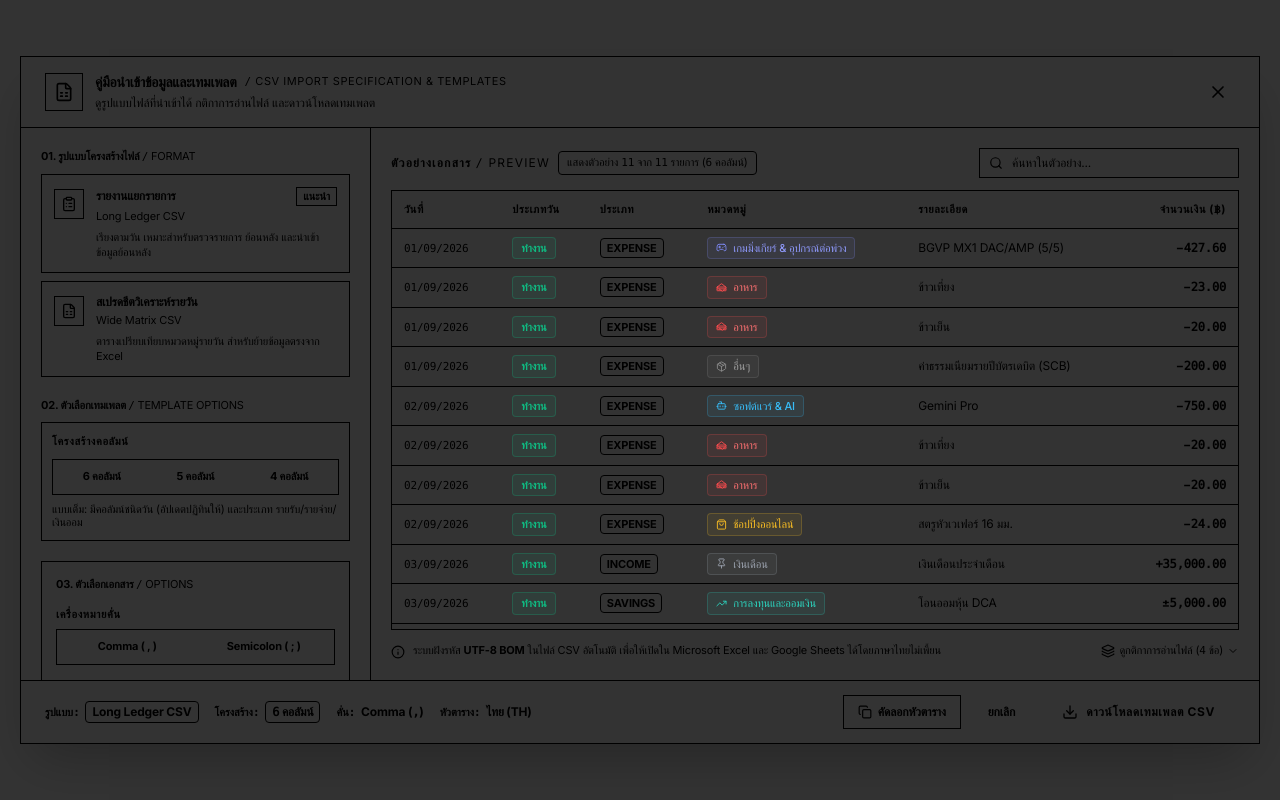
Scenario: ImportGuideModal — wide format › uses the user's expense categories (and those without a type) as the columns, and says how many
Click the button that starts with "สเปรดชีตวิเคราะห์รายวัน" at coordinates (147, 302), box [41,281,350,377]
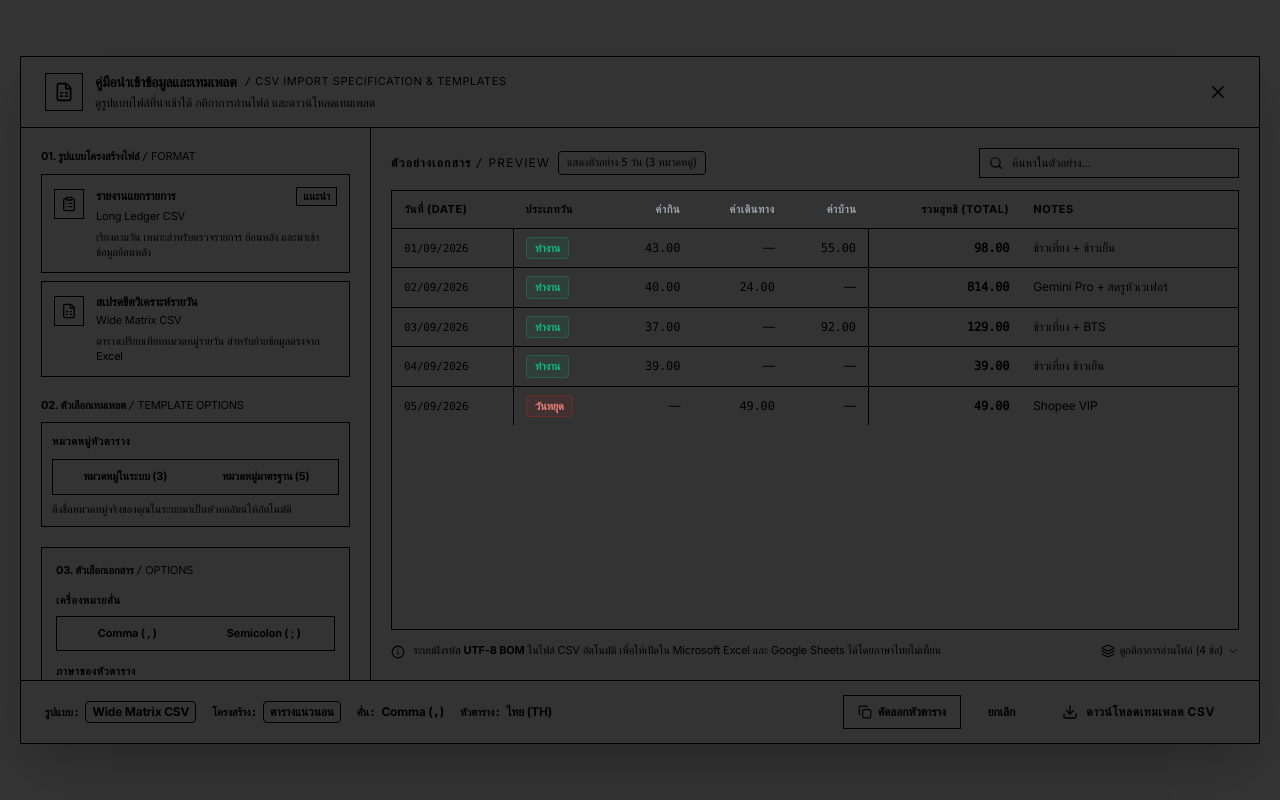
Expected: the button "หมวดหมู่ในระบบ (3)" is shown, [57,464,194,490]
Expected: the text "แสดงตัวอย่าง 5 วัน (3 หมวดหมู่)" is shown, [558,151,706,175]
Expected: the text "ตารางแนวนอน" is shown, [263,701,341,723]
